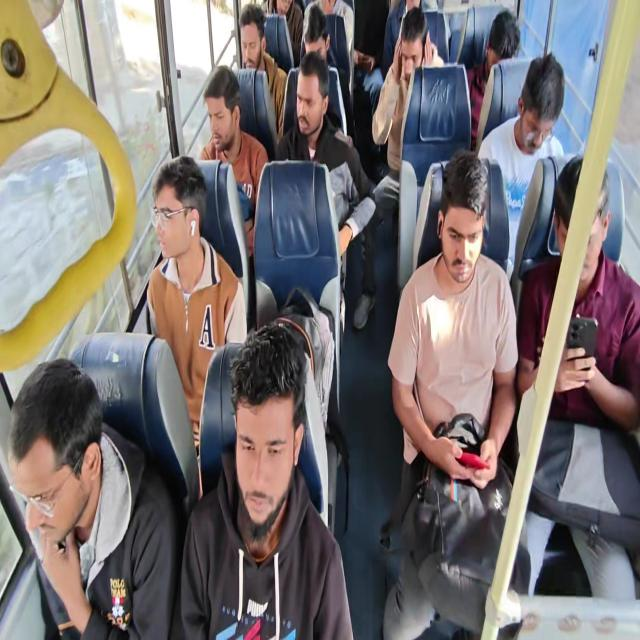person: (9, 393, 86, 527), (228, 364, 296, 514), (444, 164, 477, 277), (152, 180, 192, 260), (560, 192, 598, 275), (521, 73, 549, 159), (392, 19, 431, 72), (200, 86, 236, 139), (486, 11, 514, 78), (292, 80, 322, 133), (303, 23, 329, 74), (239, 24, 260, 60)
